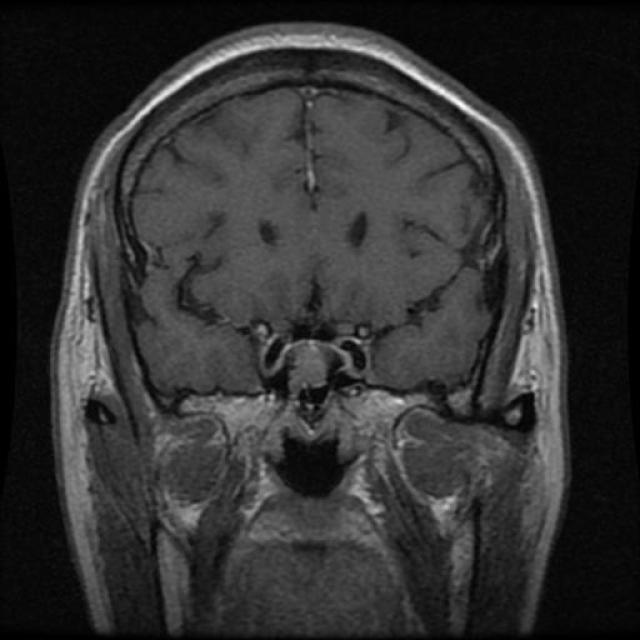pituitary: (238, 321, 358, 411)
